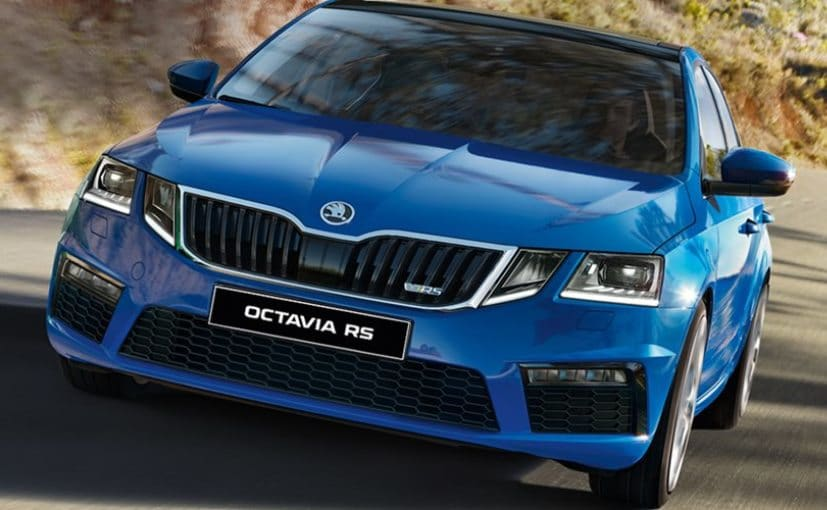number_plate: (203, 280, 418, 364)
